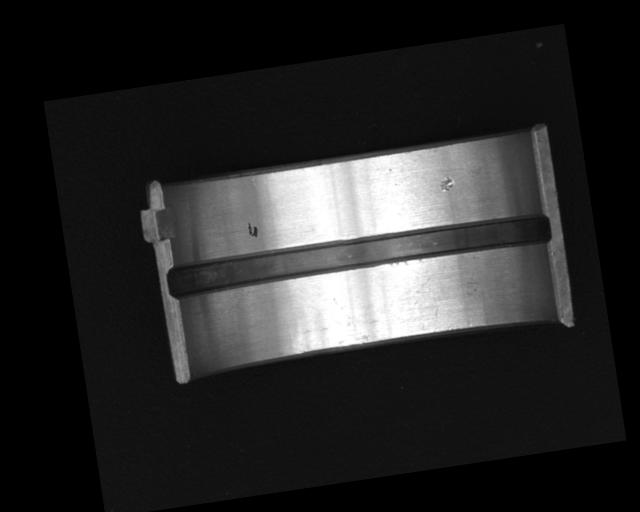blot: (246, 220, 259, 239)
bruise: (437, 174, 456, 193)
gap: (165, 206, 553, 300)
